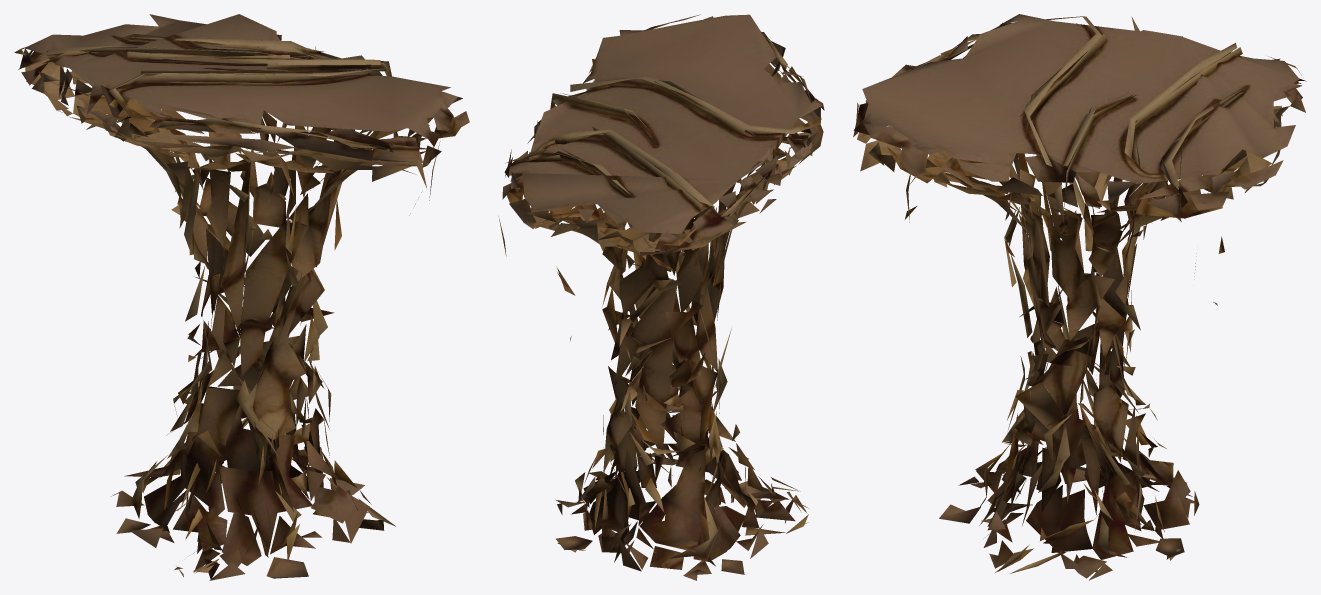
The model's file is jun_hanging_root_curtain_LOD3.glb.
3 renders of one model, left to right at view 1: azimuth 30°, elevation 25°; view 2: azimuth 150°, elevation 25°; view 3: azimuth 270°, elevation 25°, orthographic. The views are drawn at different scales.
Visible parts, largest first — view 1: tripo_node_cadc6c69-84e1-40cb-8351-e614b4902560; view 2: tripo_node_cadc6c69-84e1-40cb-8351-e614b4902560; view 3: tripo_node_cadc6c69-84e1-40cb-8351-e614b4902560.
Boxes of the visible parts, x1,y1,x2,y2 form: tripo_node_cadc6c69-84e1-40cb-8351-e614b4902560: [14, 14, 469, 580]; tripo_node_cadc6c69-84e1-40cb-8351-e614b4902560: [498, 14, 824, 580]; tripo_node_cadc6c69-84e1-40cb-8351-e614b4902560: [853, 14, 1306, 580].
Bounding box in the file's own units: 0.6593 × 1.01 × 0.9093.
Materials: 1 (1 with a texture image).
